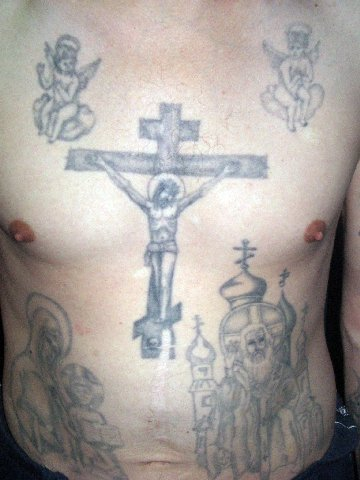tatu1_angel: (21, 28, 108, 146), (251, 18, 331, 137)
tatu9_krest: (65, 101, 271, 394)
